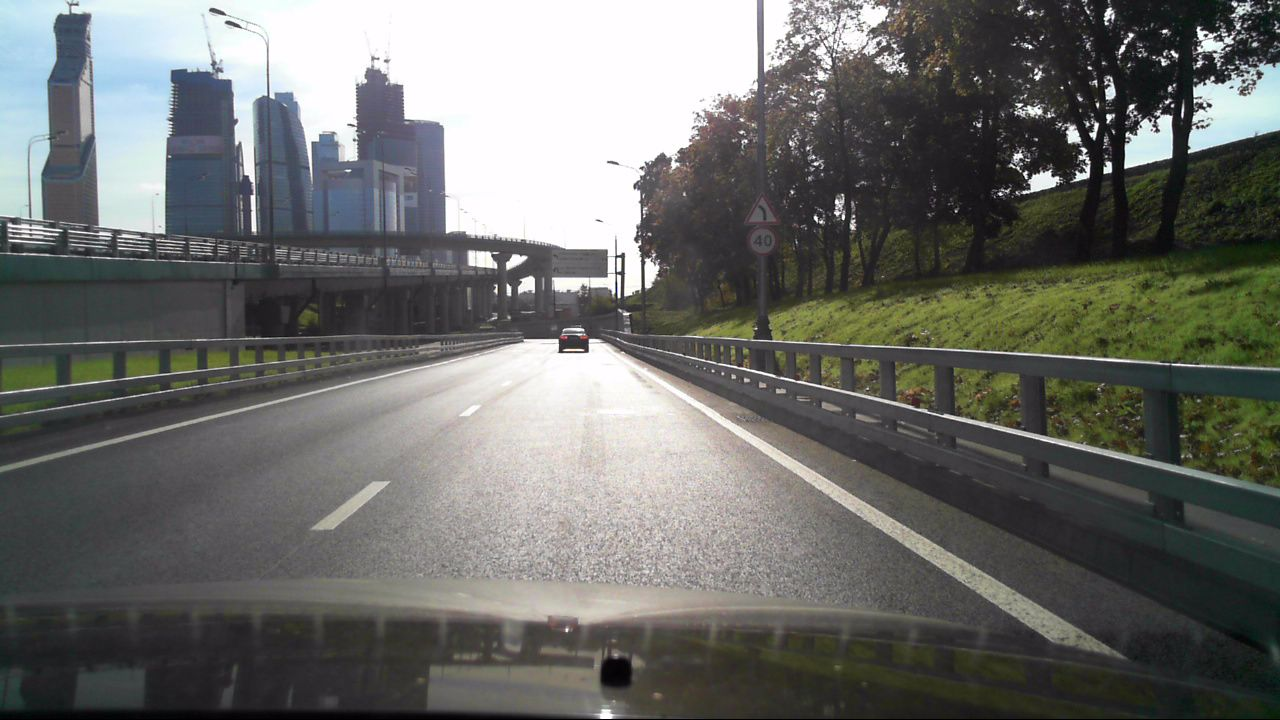speed_warning_40: (747, 225, 777, 256)
